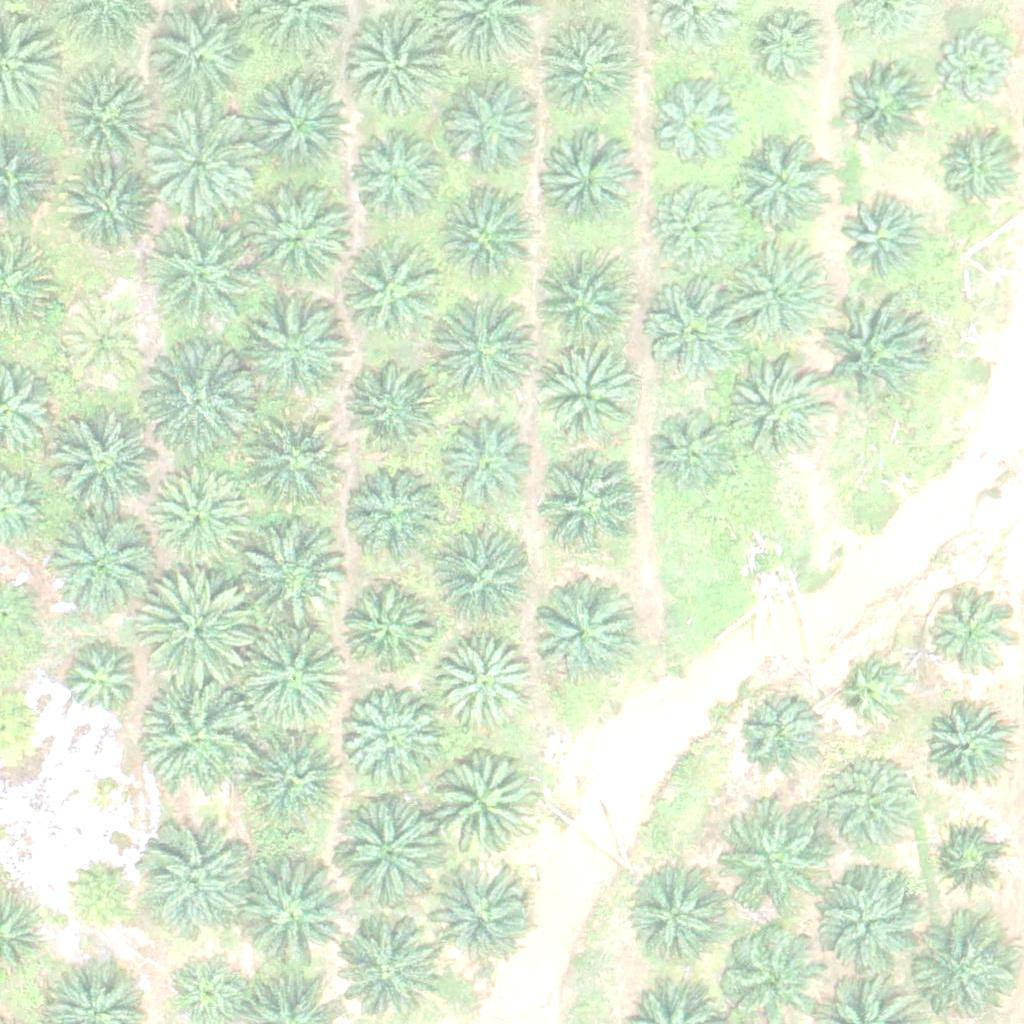Kelapa_Sawit: (141, 221, 254, 335), (813, 857, 926, 970), (329, 797, 442, 910), (144, 678, 257, 791), (141, 826, 254, 939), (814, 297, 927, 410), (234, 514, 347, 627), (141, 347, 254, 460), (233, 856, 345, 970), (237, 615, 349, 729), (139, 567, 251, 681), (142, 106, 254, 219), (425, 749, 537, 862), (422, 857, 534, 970), (717, 234, 829, 347), (429, 292, 541, 405), (48, 413, 160, 526), (43, 506, 155, 619), (50, 60, 150, 161), (249, 68, 349, 169), (349, 24, 449, 125), (442, 76, 542, 177), (539, 26, 639, 127), (540, 134, 640, 235), (714, 814, 814, 915), (632, 862, 732, 963), (529, 586, 629, 687), (436, 635, 536, 736), (334, 580, 434, 681), (341, 688, 441, 789), (723, 358, 823, 459), (648, 275, 748, 376), (532, 344, 632, 445), (532, 256, 632, 357), (436, 188, 536, 289), (150, 468, 250, 569), (144, 10, 244, 110), (648, 73, 748, 173), (734, 137, 834, 237), (821, 749, 921, 849), (434, 537, 534, 637), (248, 726, 348, 826), (538, 454, 638, 554), (434, 413, 534, 513), (346, 458, 446, 558), (338, 238, 438, 338), (343, 354, 443, 454), (249, 187, 349, 287), (249, 304, 349, 404), (241, 417, 341, 517), (51, 157, 151, 257), (739, 4, 827, 93), (653, 180, 741, 269), (736, 690, 824, 778), (60, 300, 148, 388), (934, 130, 1021, 218), (929, 23, 1016, 111), (835, 62, 922, 150), (352, 133, 439, 221), (927, 594, 1014, 682), (923, 699, 1010, 787), (923, 817, 1010, 905), (55, 637, 142, 725), (840, 199, 927, 287), (649, 406, 736, 494), (62, 854, 137, 930), (839, 656, 914, 732)
